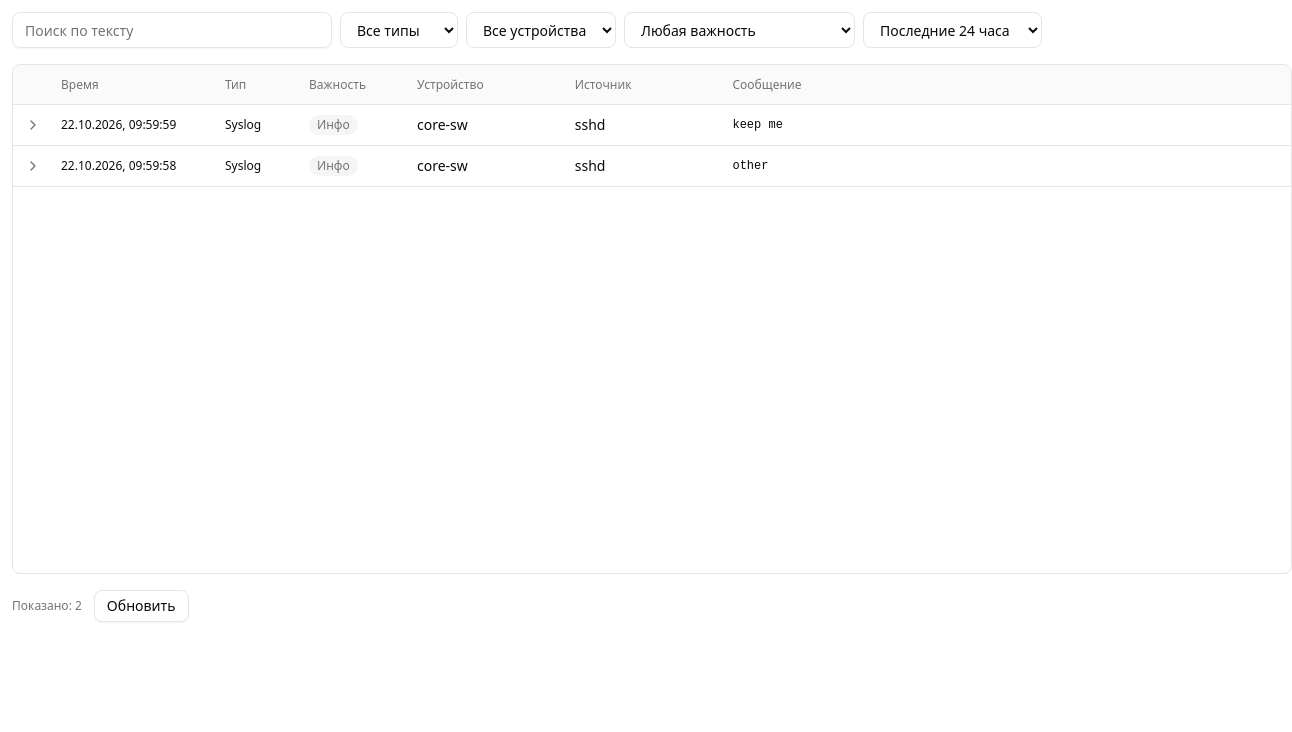
it: EventFeed › keeps a row expanded across a refresh that adds newer events
Check: the text "keep me" is shown, box 732,118 -> 783,132
Click the button named "Показать подробности" next to "22.10.2026, 09:59:59" at (37, 125), box 25,117 -> 49,133
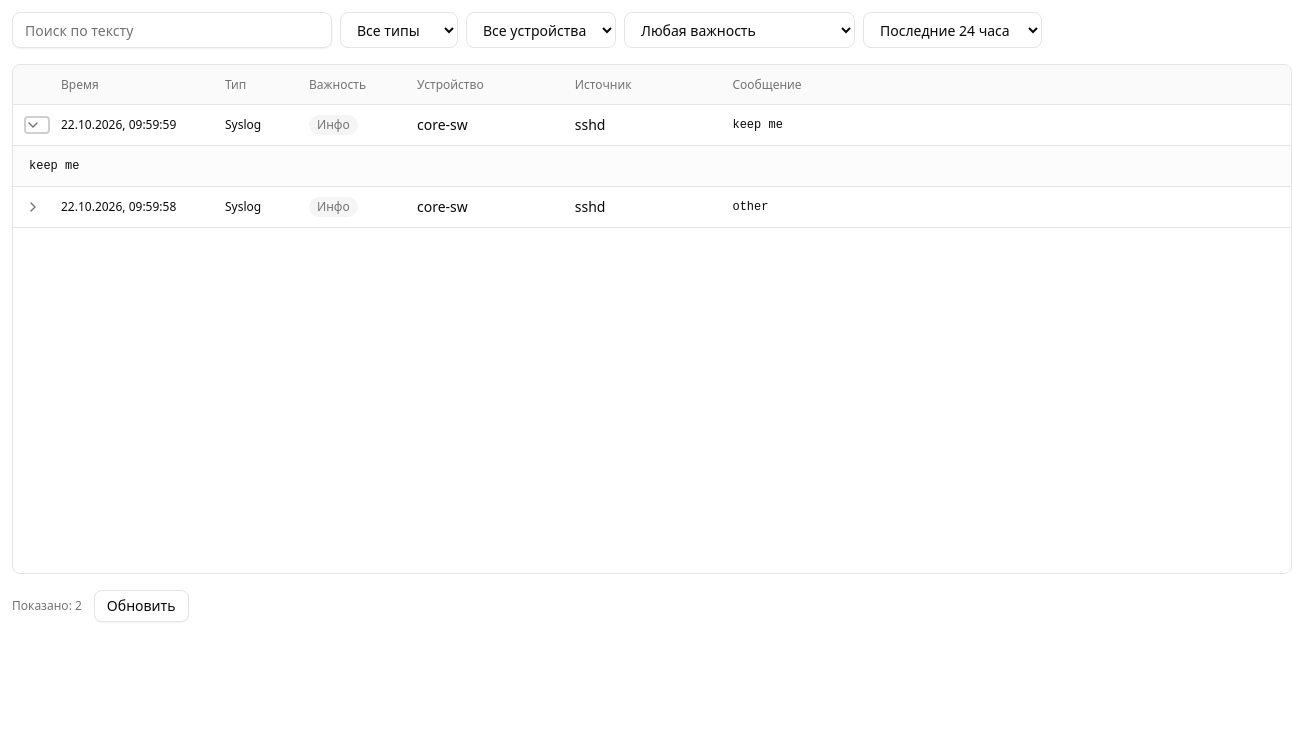
Check: the number of elements with test id "event-details" is 1, box 13,145 -> 1291,186
Click the button "Обновить" at (141, 606), box 94,590 -> 189,622
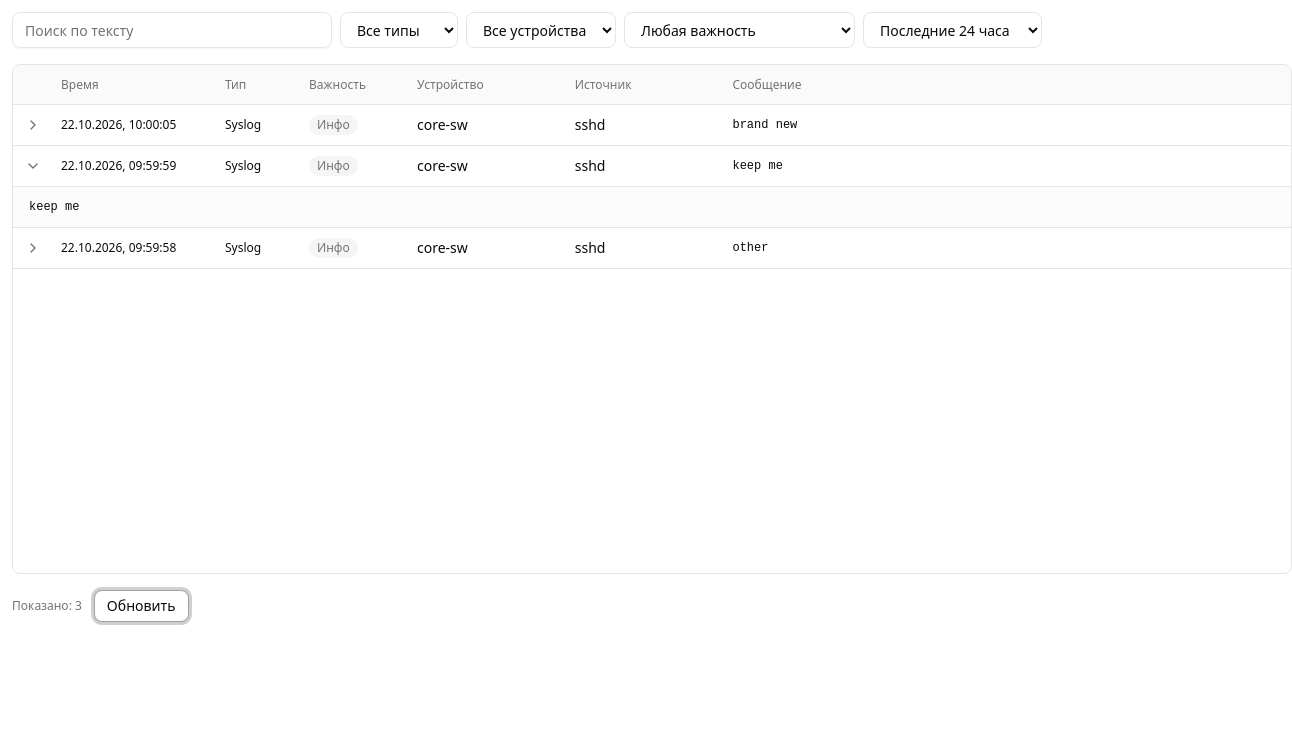
Check: the element with test id "event-details" reads "keep me", box 29,200 -> 79,214
Check: the text "brand new" is shown, box 732,118 -> 797,132
